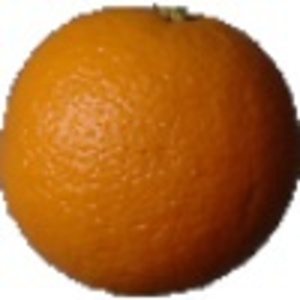laranja: (2, 4, 299, 298)
